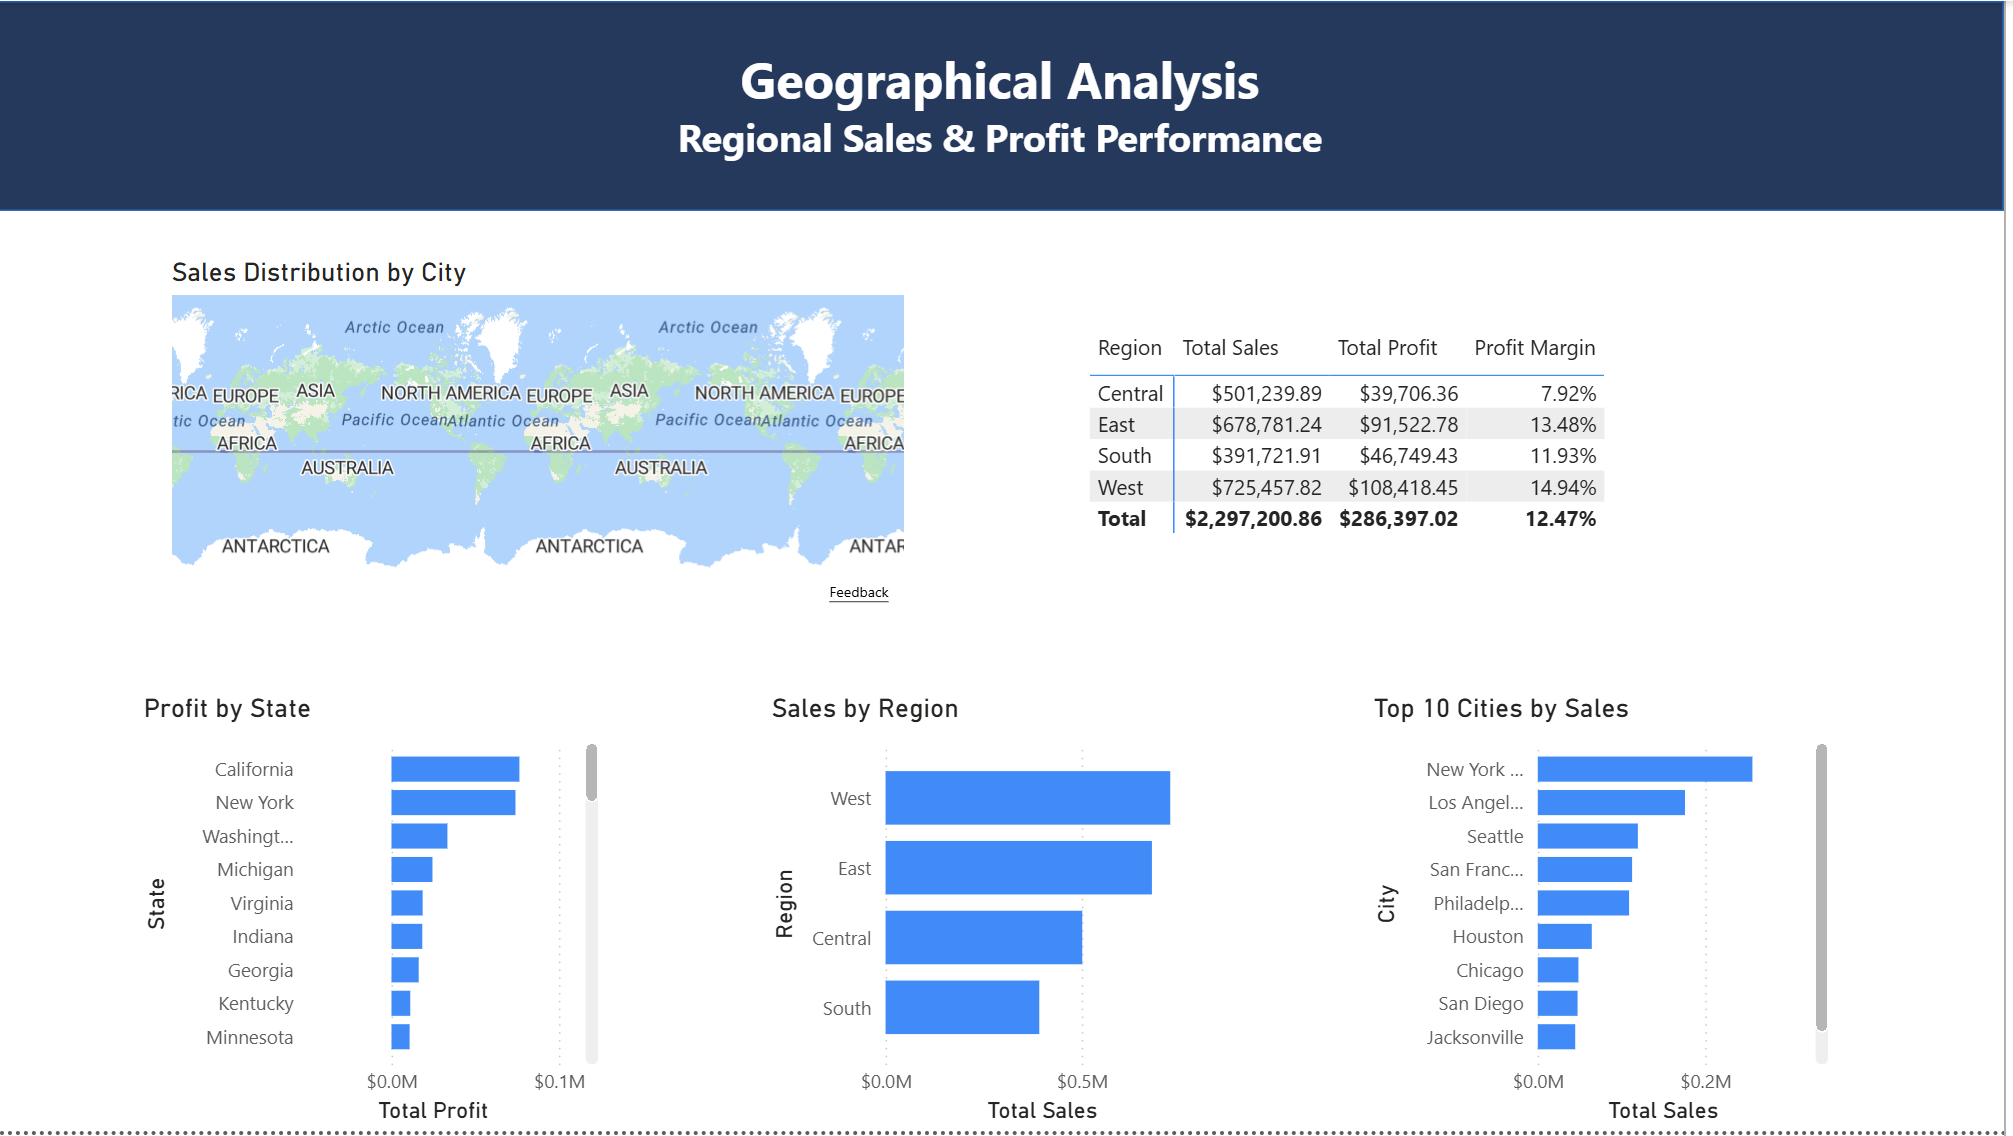

The dashboard page shown, as its layout file describes it:
{"tool":"powerbi","page":{"name":"Geographical Analysis","canvas":[1280,720],"ordinal":3},"visuals":[{"type":"clusteredBarChart","title":"Profit by State","fields":{"Category":["Orders.State"],"Y":["Measures (2).Total Profit"]},"box":[89.2,441.1,299.6,279.2],"z":0},{"type":"clusteredBarChart","title":"Sales by Region","fields":{"Category":["People.Region"],"Y":["Measures (2).Total Sales"]},"box":[489.6,441.1,299.6,279.2],"z":1000},{"type":"clusteredBarChart","title":"Top 10 Cities by Sales","fields":{"Category":["Orders.City"],"Y":["Measures (2).Total Sales"]},"box":[873.3,441.1,299.6,279.2],"z":2000},{"type":"shape","box":[0,0,1280,133.9],"z":3000},{"type":"textbox","box":[388.8,22.9,502.3,146.6],"z":4000},{"type":"pivotTable","fields":{"Rows":["People.Region"],"Values":["Measures (2).Total Sales","Measures (2).Total Profit","Measures (2).Profit Margin"]},"box":[692.3,205.3,499.8,200.2],"z":5000},{"type":"azureMap","title":"Sales Distribution by City","fields":{"Category":["Orders.City","Orders.State","Orders.Country"],"Size":["Measures (2).Total Sales"]},"box":[107.1,163.2,476.8,229.5],"z":6000}]}

Visuals, with their boxes in screenshot pixels (x1, y1, x2, y2), scaled from the page's 1280x720 canvas onto the 2013x1136 screenshot:
"Profit by State" clusteredBarChart: [x1=140, y1=696, x2=611, y2=1135]
"Sales by Region" clusteredBarChart: [x1=770, y1=696, x2=1241, y2=1135]
"Top 10 Cities by Sales" clusteredBarChart: [x1=1373, y1=696, x2=1845, y2=1135]
shape: [x1=0, y1=0, x2=2012, y2=211]
textbox: [x1=611, y1=36, x2=1401, y2=267]
pivotTable - People.Region x Measures (2).Total Sales: [x1=1089, y1=324, x2=1875, y2=640]
"Sales Distribution by City" azureMap: [x1=168, y1=257, x2=918, y2=620]
